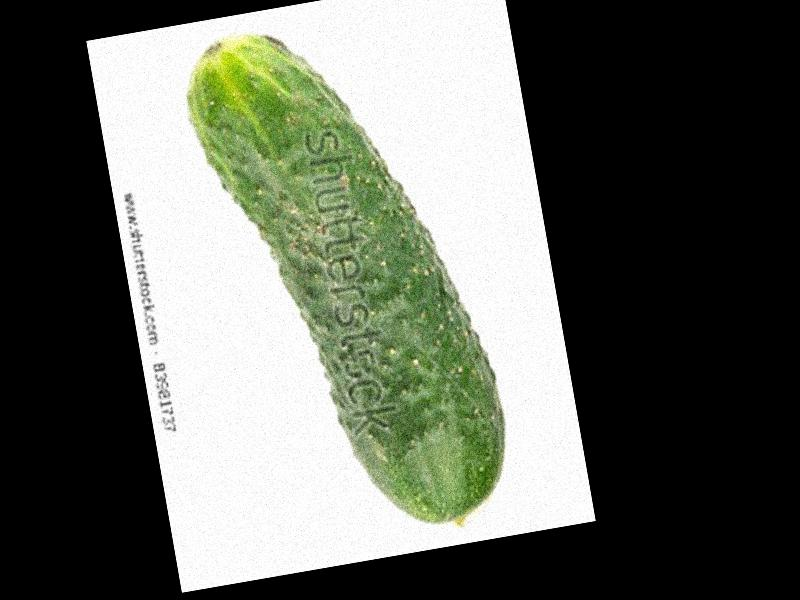Cucumber: (179, 3, 520, 555)
